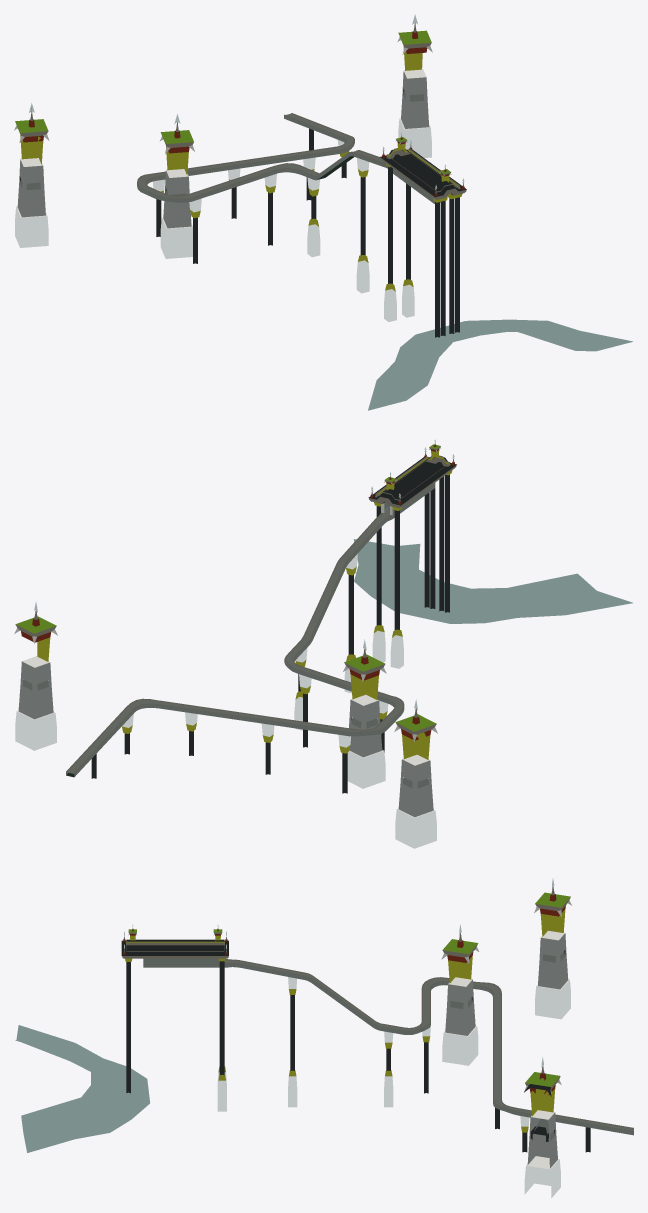
Rendered from Chunk6.obj.
3 views of the same model, one above another, from view 1: azimuth 30°, elevation 25°; view 2: azimuth 150°, elevation 25°; view 3: azimuth 270°, elevation 25° (orthographic). The views are drawn at different scales.
Size of the model in its own units: 6575 by 2848 by 8809.
